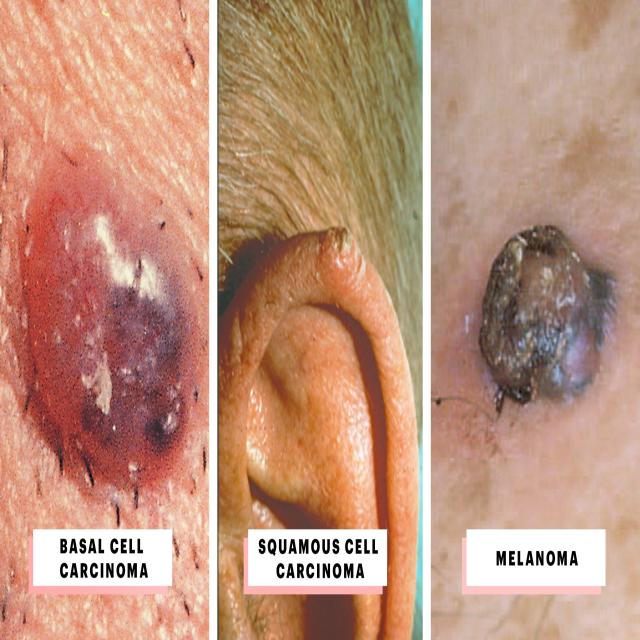Cancer: (469, 215, 627, 419), (313, 215, 367, 298)
